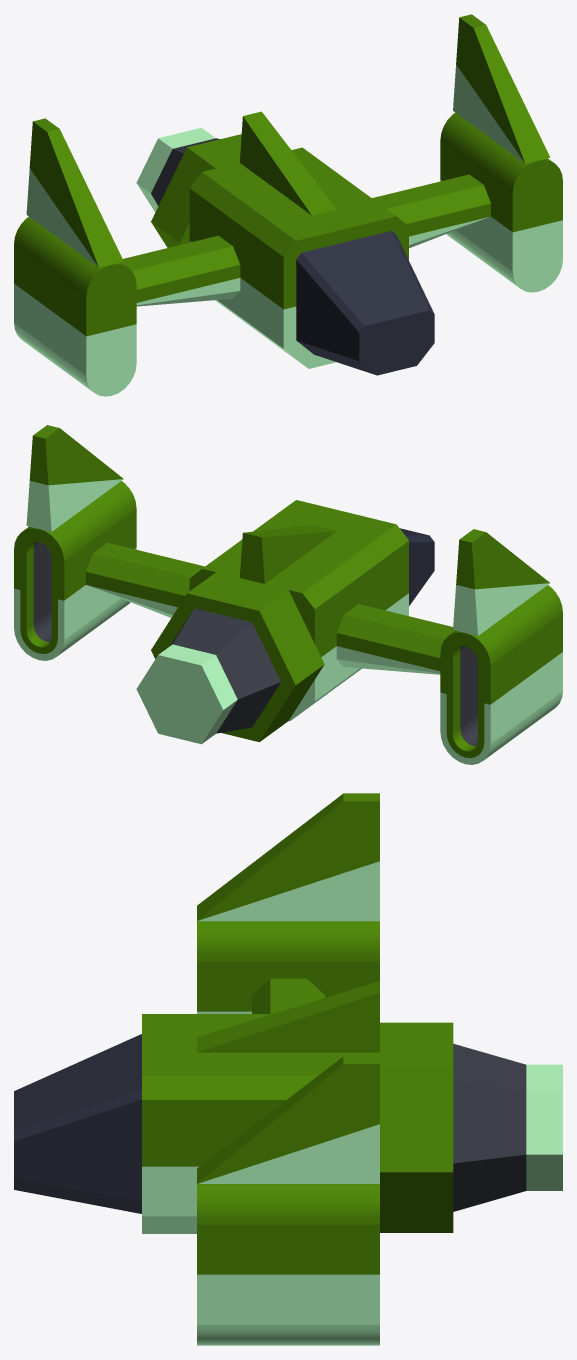
Rendered from Ship4.fbx.
The picture shows the model from 3 angles, top to bottom: view 1: azimuth 30°, elevation 25°; view 2: azimuth 150°, elevation 25°; view 3: azimuth 270°, elevation 25°; orthographic projection. The views are drawn at different scales.
Visible parts, largest first — view 1: engine_capsule (×2), hull_cockpitExtended%, rudder (×2), hull_tailEdge (×2), hull_body, engine_turbine, rudder_simple; view 2: engine_capsule (×2), engine_turbine, rudder (×2), hull_tailEdge (×2), hull_body, hull_cockpitExtended%, rudder_simple; view 3: engine_capsule (×2), engine_turbine, rudder (×2), hull_cockpitExtended%, hull_body, rudder_simple, hull_tailEdge.
Part boxes in pixels (x1,y1,x2,y2): engine_capsule (×2): (14,112,562,396); hull_cockpitExtended%: (262,200,434,375); rudder (×2): (26,14,550,267); hull_tailEdge (×2): (122,174,490,306); hull_body: (189,147,374,351); engine_turbine: (136,127,241,247); rudder_simple: (239,111,336,215); engine_capsule (×2): (14,481,562,764); engine_turbine: (136,572,324,744); rudder (×2): (26,425,549,635); hull_tailEdge (×2): (86,542,454,674); hull_body: (189,516,387,721); hull_cockpitExtended%: (275,500,434,615); rudder_simple: (239,525,336,583); engine_capsule (×2): (197,921,379,1345); engine_turbine: (380,1022,562,1232); rudder (×2): (197,793,379,1183); hull_cockpitExtended%: (14,1014,196,1233); hull_body: (197,1014,379,1168); rudder_simple: (197,981,379,1052); hull_tailEdge: (252,978,324,1013).
Size of the model in its own units: 38 by 17 by 30.
